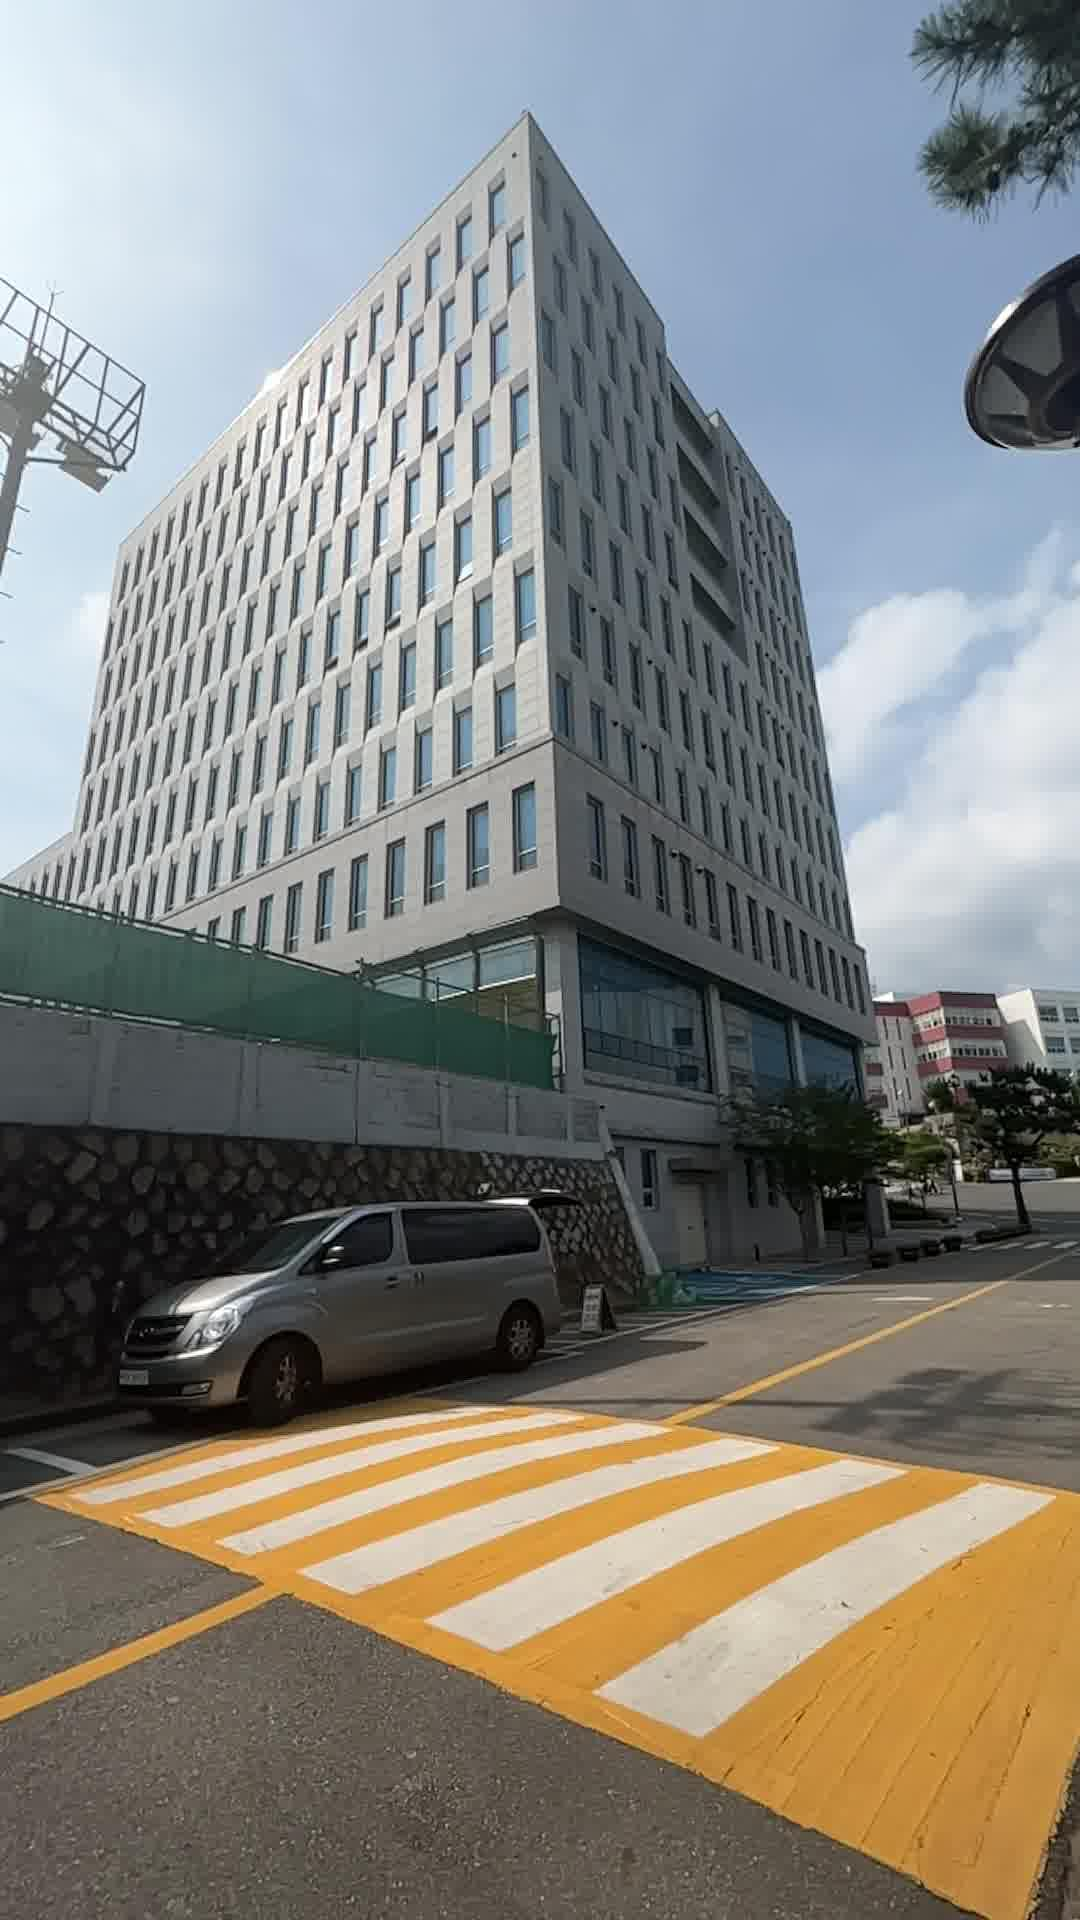building: (40, 103, 860, 972)
